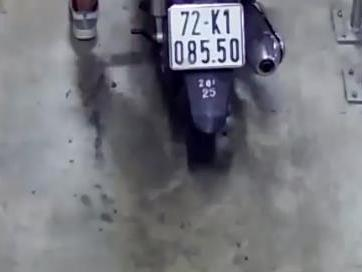num_plate: (166, 3, 248, 70)
